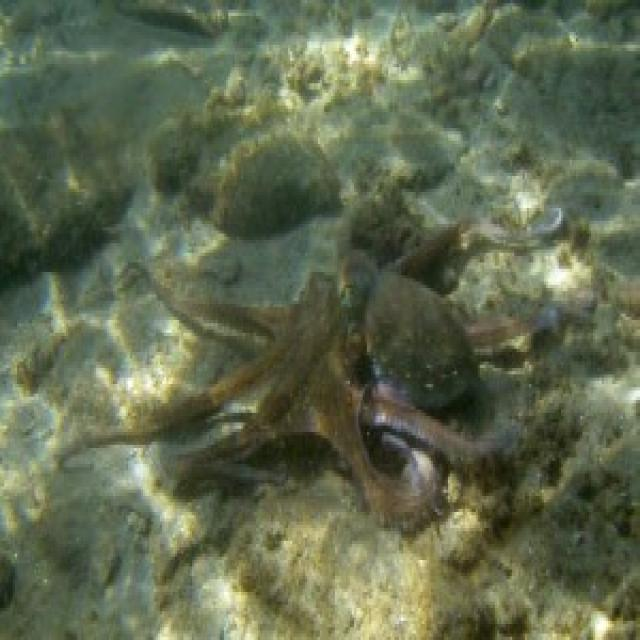Octo: (85, 208, 592, 516)
